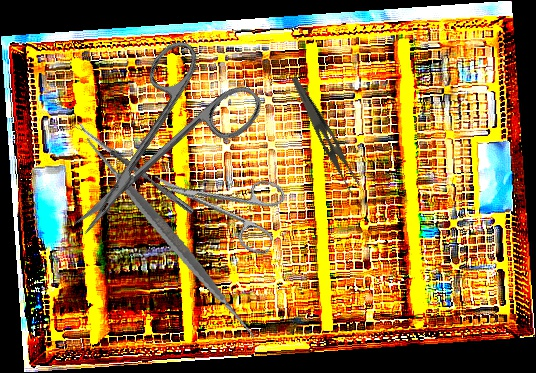Dressing Forceps: (278, 76, 369, 198)
Iris Scissors: (34, 26, 269, 267), (141, 143, 292, 258)
Spatula Surgical: (55, 123, 286, 354)
Surgical Spoon: (73, 120, 196, 215)
